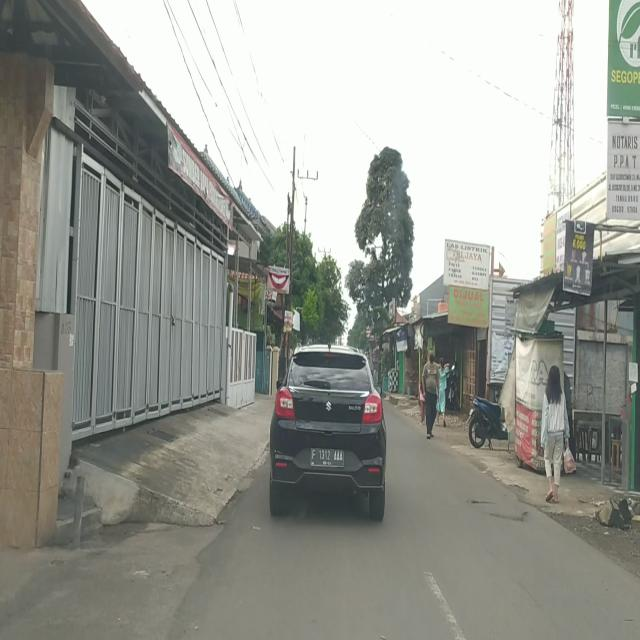Sewer Cover: (488, 510, 528, 524), (468, 496, 499, 507)
